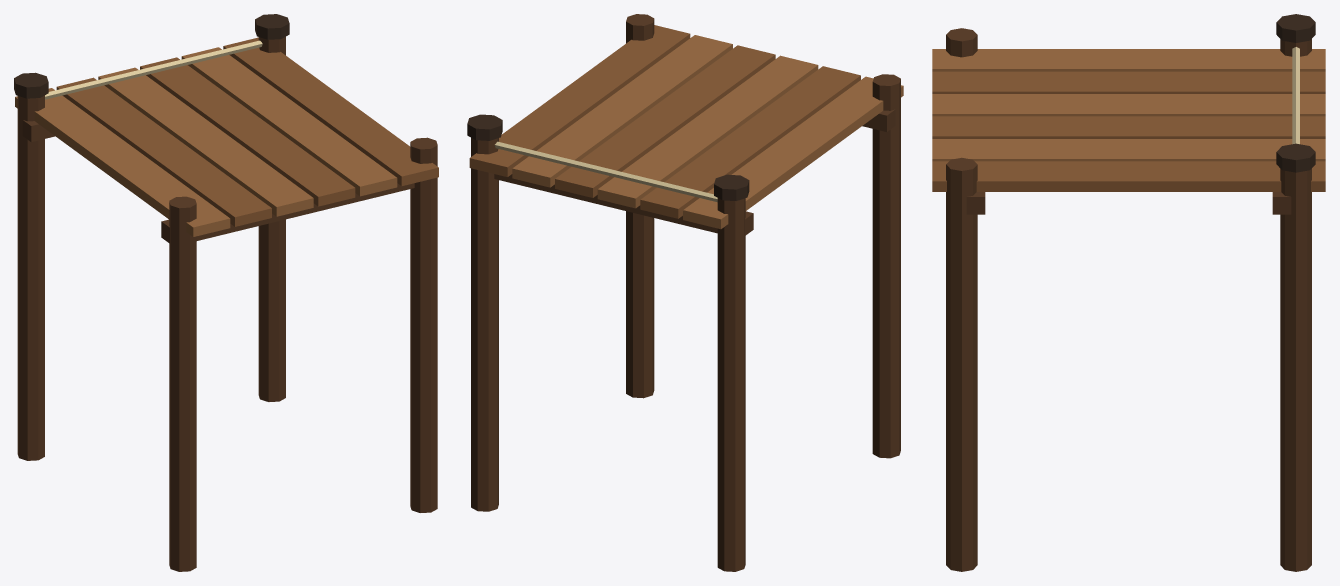
Rendered from Dock_End.fbx.
The picture shows the model from 3 angles, left to right: view 1: azimuth 30°, elevation 25°; view 2: azimuth 150°, elevation 25°; view 3: azimuth 270°, elevation 25°; orthographic projection. The views are drawn at different scales.
Visible parts, largest first — view 1: Dock_End.001; view 2: Dock_End.001; view 3: Dock_End.001.
Boxes of the visible parts, x1=… form: Dock_End.001: x1=14, y1=14, x2=438, y2=571; Dock_End.001: x1=467, y1=14, x2=903, y2=571; Dock_End.001: x1=932, y1=14, x2=1325, y2=571.
Size of the model in its own units: 1.76 by 2.32 by 2.
